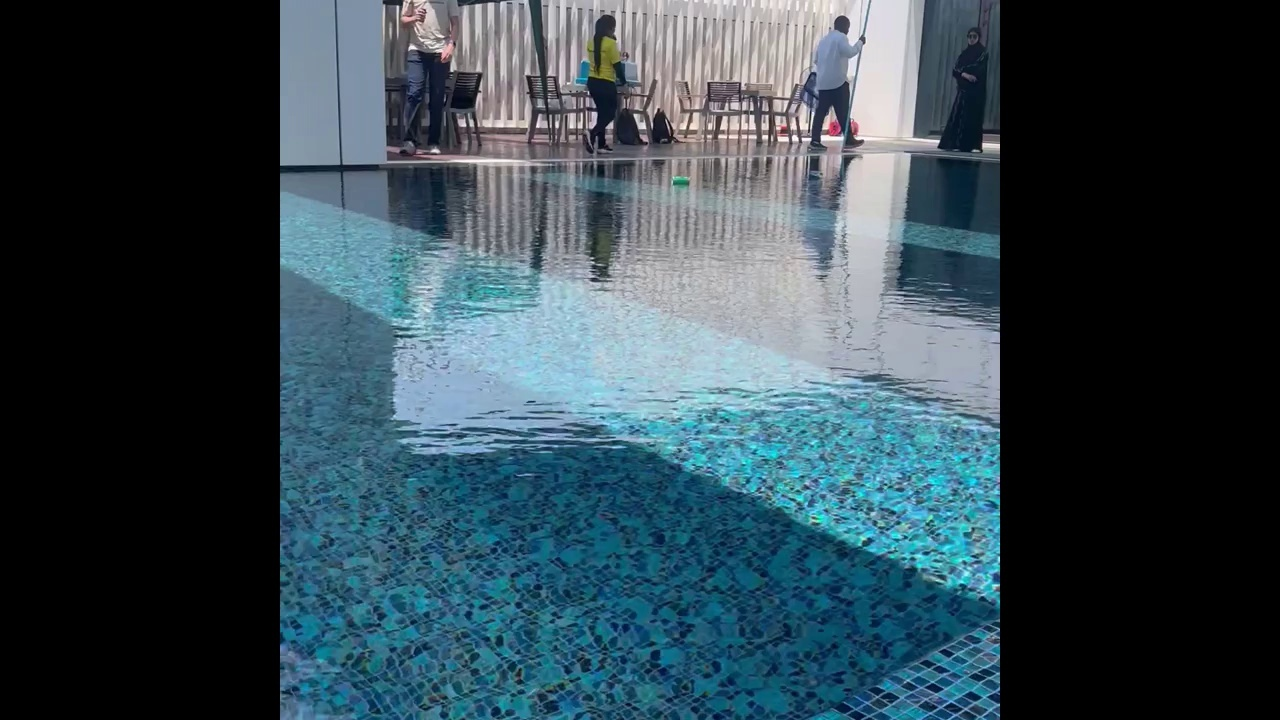debris: (668, 171, 692, 188)
